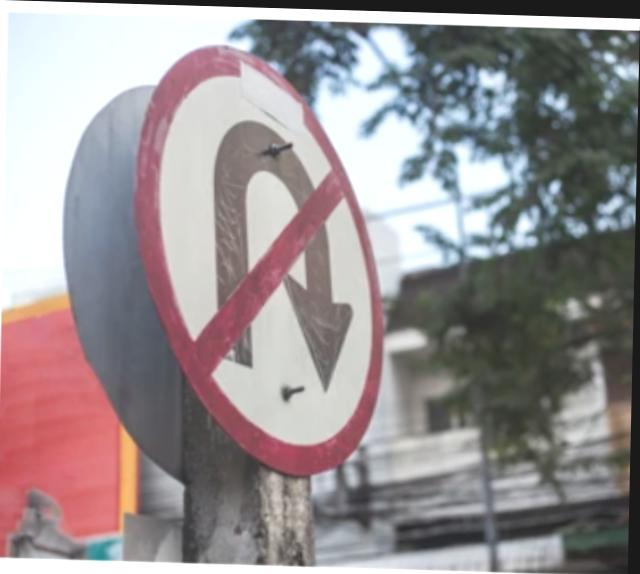not_u_turn_right: (120, 31, 399, 483)
